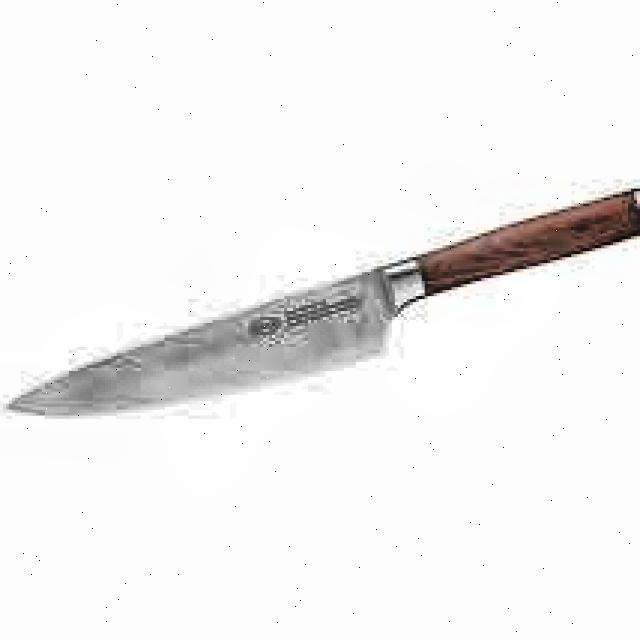knife: (6, 188, 640, 419)
